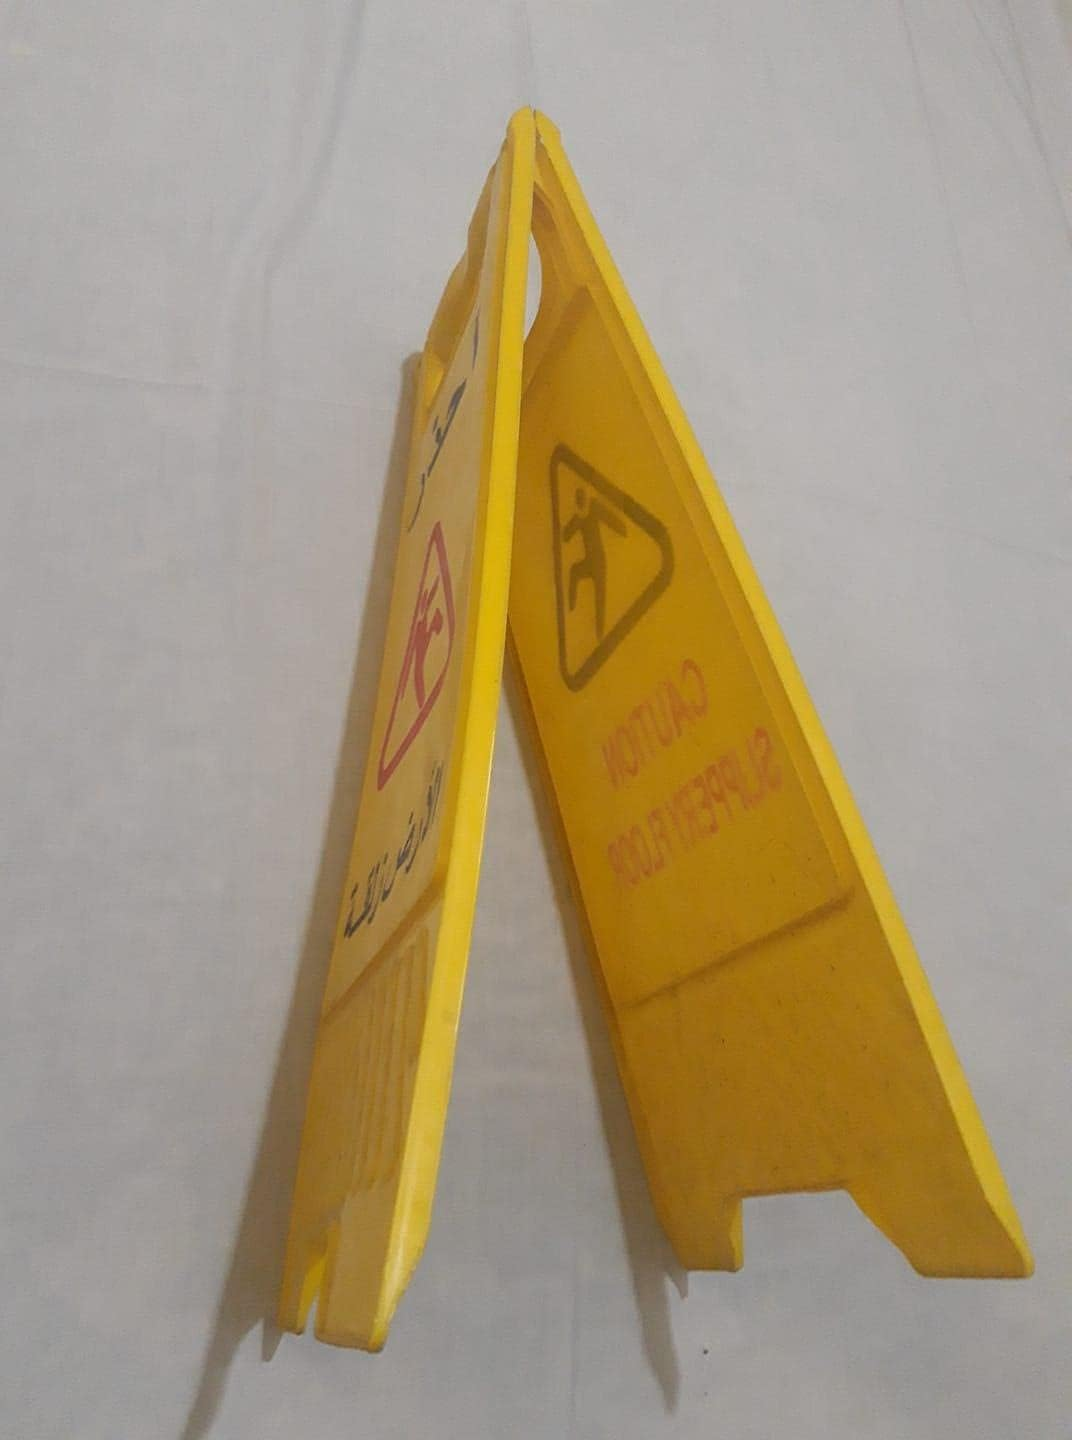wet caution sign: (100, 18, 992, 1371)
